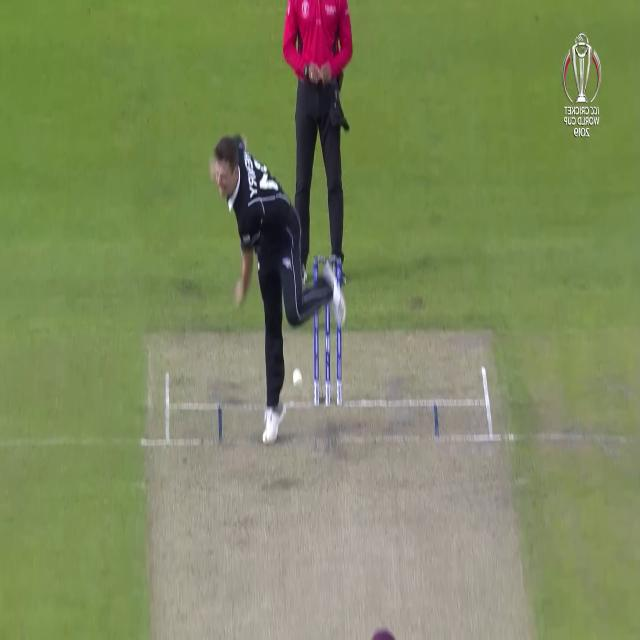ball: (288, 361, 306, 393)
